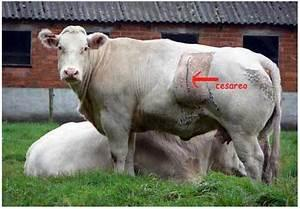cow: (37, 24, 282, 185)
